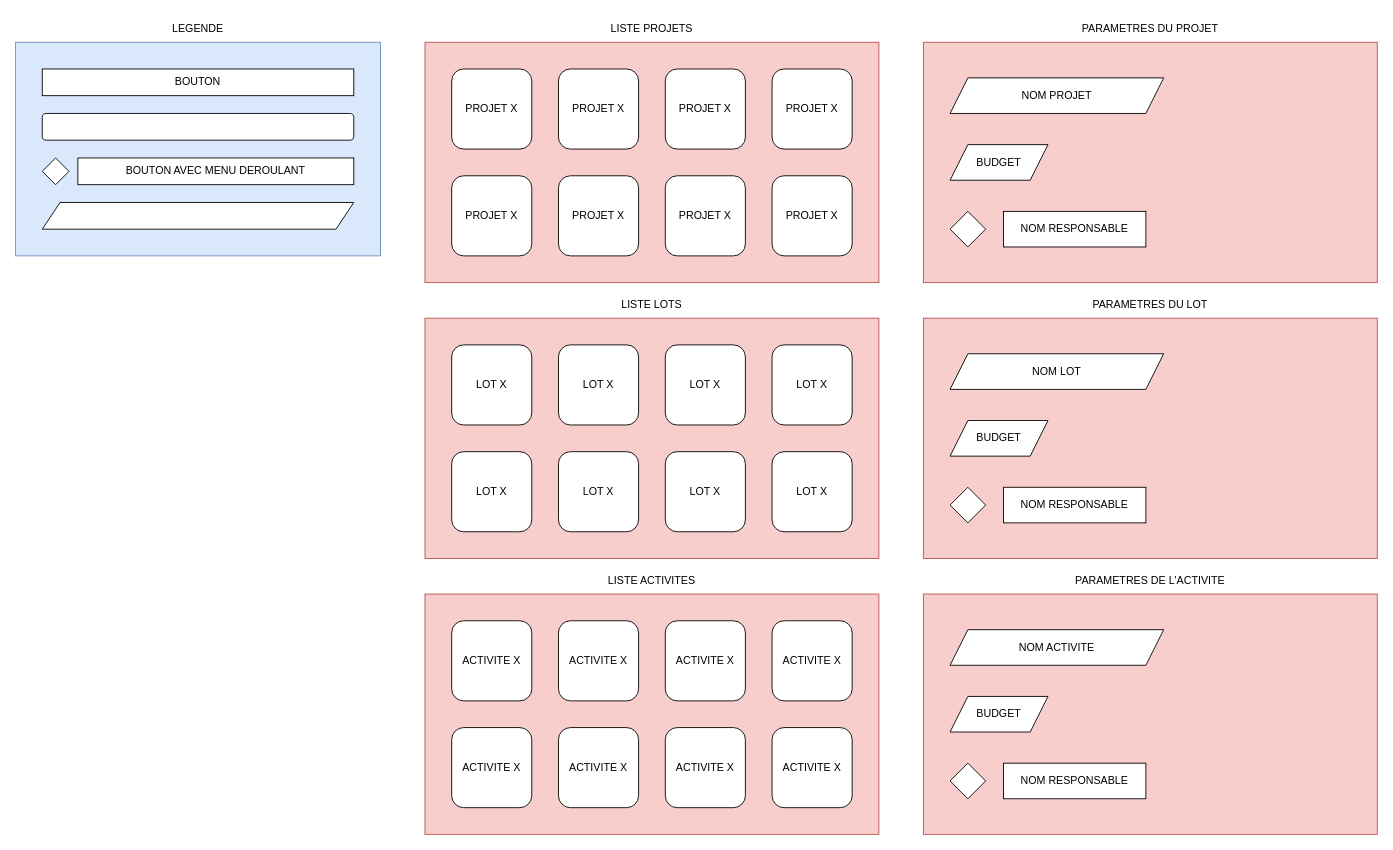
Some shapes in this 1393 by 850 pixel diagram are drawn without their labels. Each missing label, with the centre of its shape:
"BOUTON AVEC ICONE" belongs at point (197, 126).
"CHAMP A COMPLETER" belongs at point (197, 215).
